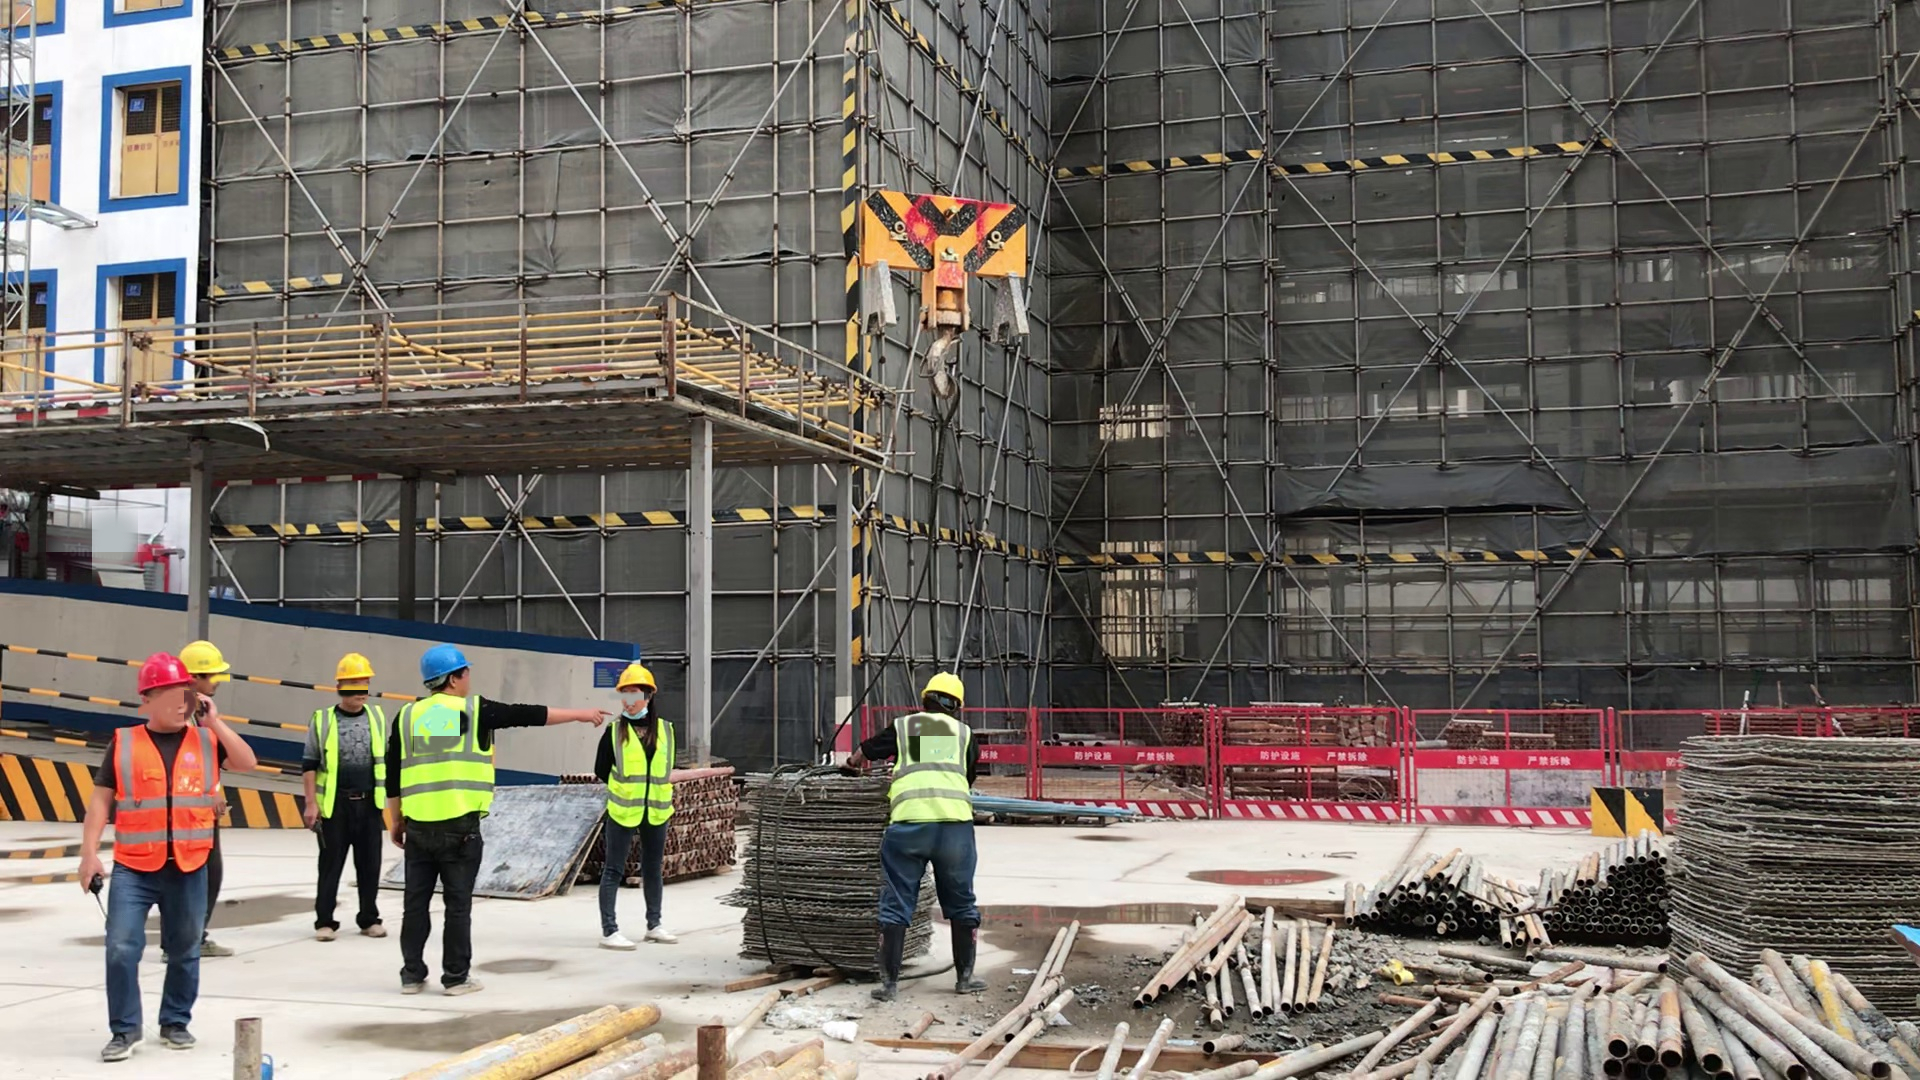helmet: (139, 653, 193, 692), (420, 644, 474, 682), (181, 642, 229, 674), (922, 674, 965, 708), (615, 664, 656, 688), (337, 655, 376, 681)
person: (92, 653, 219, 1062), (383, 645, 517, 995), (873, 673, 985, 997), (595, 663, 685, 949), (316, 654, 390, 941)
vest: (119, 724, 212, 872), (400, 701, 494, 815), (890, 711, 973, 827), (313, 708, 386, 823), (609, 716, 677, 827)
